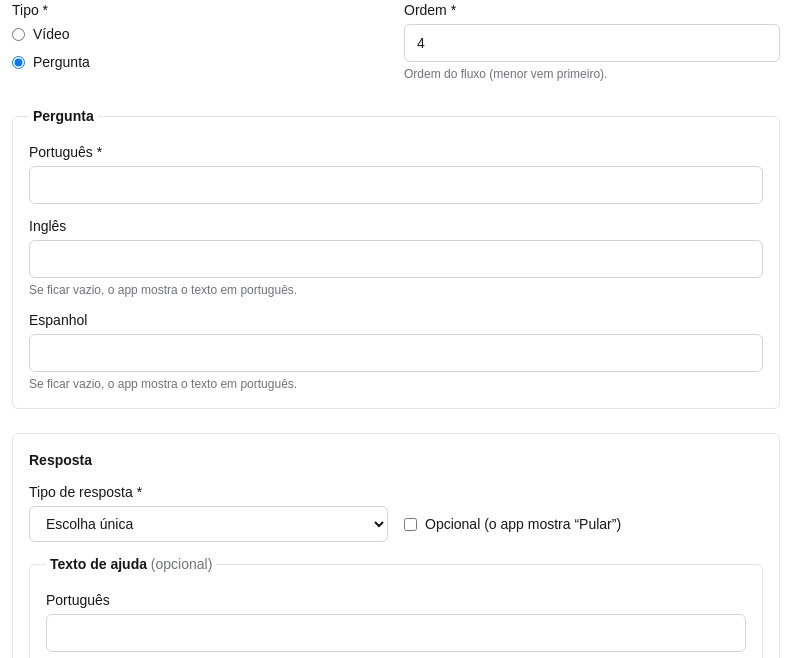
StepForm answer types (v2) › yes/no explains the two-option rule
Step 1. Select "Sim ou não" in the dropdown labelled "Tipo de resposta *" → (208,524), box [29, 506, 388, 542]
(page scrolled)
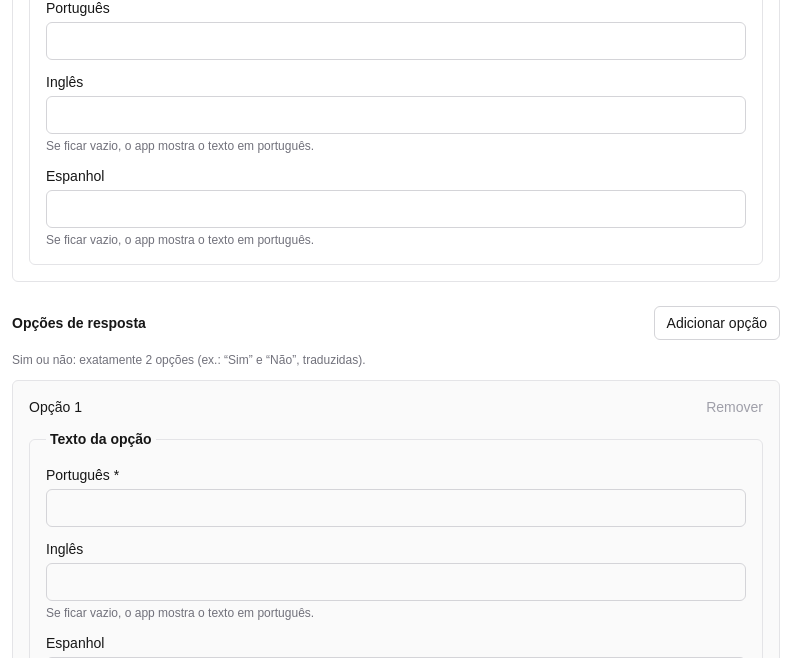
Expected: the text "exatamente 2 opções" is shown, [12, 353, 366, 367]
